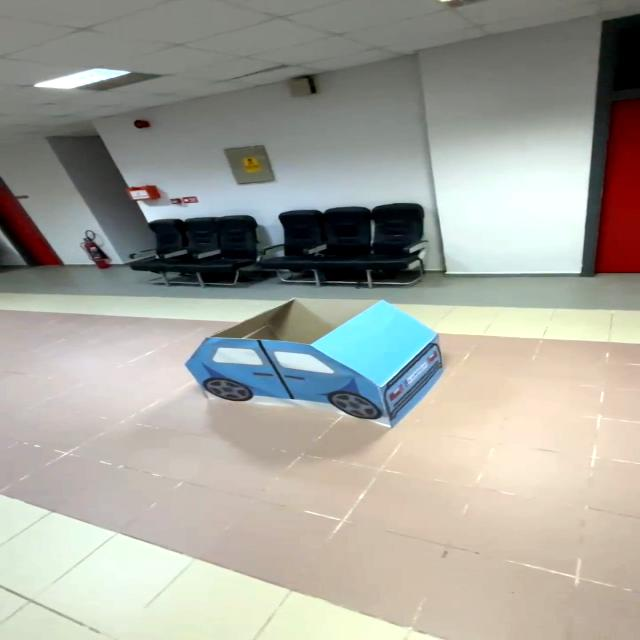blue_car: (167, 291, 481, 450)
